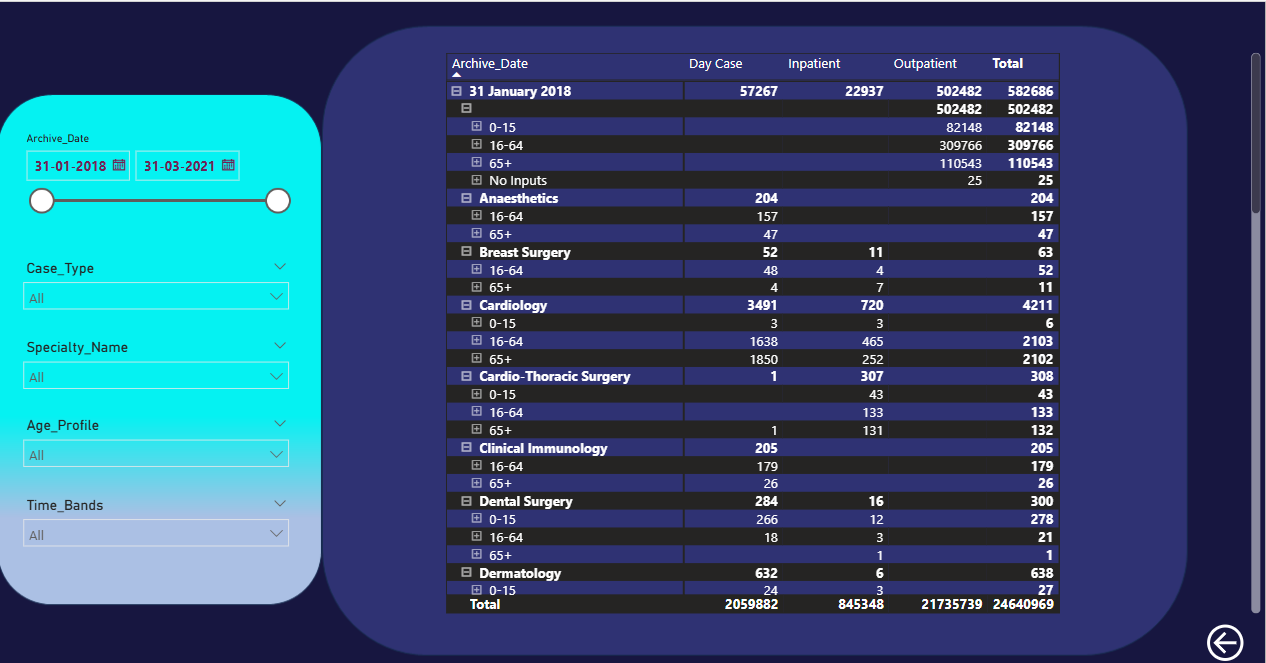

The page's visual inventory and layout, read from the dashboard file:
{"tool":"powerbi","page":{"name":"Detail","canvas":[1280,720],"ordinal":1},"visuals":[{"type":"slicer","fields":{"Values":["All_Data.Archive_Date"]},"box":[16,176,288,112],"z":0},{"type":"slicer","fields":{"Values":["All_Data.Case_Type"]},"box":[16,304,288,64],"z":1000},{"type":"slicer","fields":{"Values":["All_Data.Specialty_Name"]},"box":[16,384,288,64],"z":2000},{"type":"slicer","fields":{"Values":["All_Data.Age_Profile"]},"box":[16,464,288,64],"z":3000},{"type":"slicer","fields":{"Values":["All_Data.Time_Bands"]},"box":[16,544,288,64],"z":4000},{"type":"pivotTable","fields":{"Rows":["All_Data.Archive_Date","All_Data.Specialty_Name","All_Data.Age_Profile","All_Data.Time_Bands"],"Columns":["All_Data.Case_Type"],"Values":["Sum(All_Data.Total)"]},"box":[448,96,832,576],"z":5000},{"type":"actionButton","box":[1216,672,64,48],"z":6001}]}

Visuals, with their boxes on the page's 1280x720 design canvas (x1, y1, x2, y2). These are canvas units, not pixel positions in the 1266x663 screenshot, which may show the page scaled, cropped or inside an application window:
slicer - All_Data.Archive_Date: <box>16,176,304,288</box>
slicer - All_Data.Case_Type: <box>16,304,304,368</box>
slicer - All_Data.Specialty_Name: <box>16,384,304,448</box>
slicer - All_Data.Age_Profile: <box>16,464,304,528</box>
slicer - All_Data.Time_Bands: <box>16,544,304,608</box>
pivotTable - All_Data.Archive_Date x All_Data.Specialty_Name: <box>448,96,1280,672</box>
actionButton: <box>1216,672,1280,720</box>
